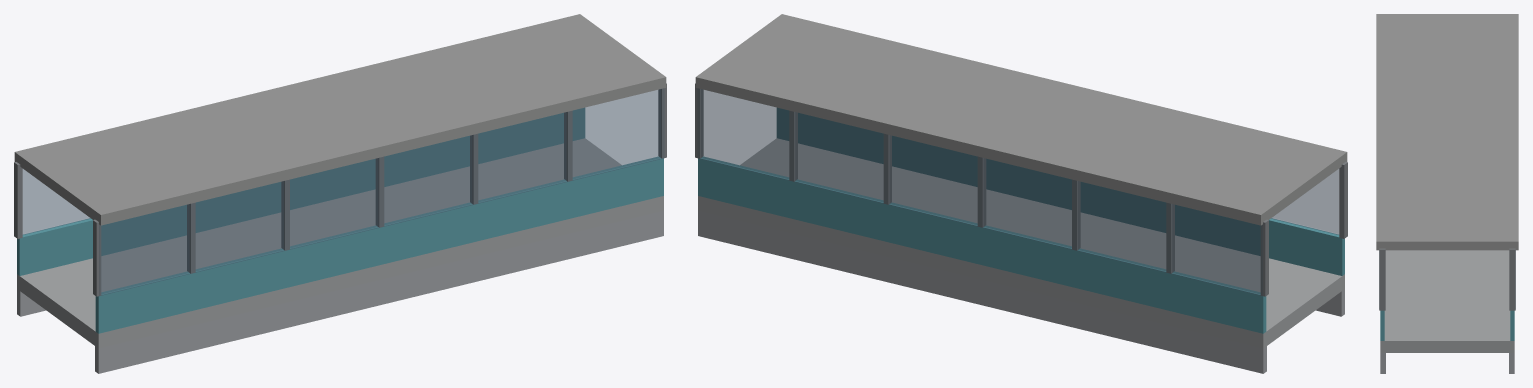
Rendered from hosp-bridge-14.mega-v1.lod1.glb.
The picture shows the model from 3 angles, left to right: view 1: azimuth 30°, elevation 25°; view 2: azimuth 150°, elevation 25°; view 3: azimuth 270°, elevation 25°; orthographic projection. The views are drawn at different scales.
Visible parts, largest first — view 1: hosp-bridge-14; view 2: hosp-bridge-14; view 3: hosp-bridge-14.
Part boxes in pixels (x1,y1,x2,y2): hosp-bridge-14: (14, 14, 666, 373); hosp-bridge-14: (695, 14, 1347, 373); hosp-bridge-14: (1376, 14, 1518, 373).
Bounding box in the file's own units: 14.12 × 3.8 × 3.7.
